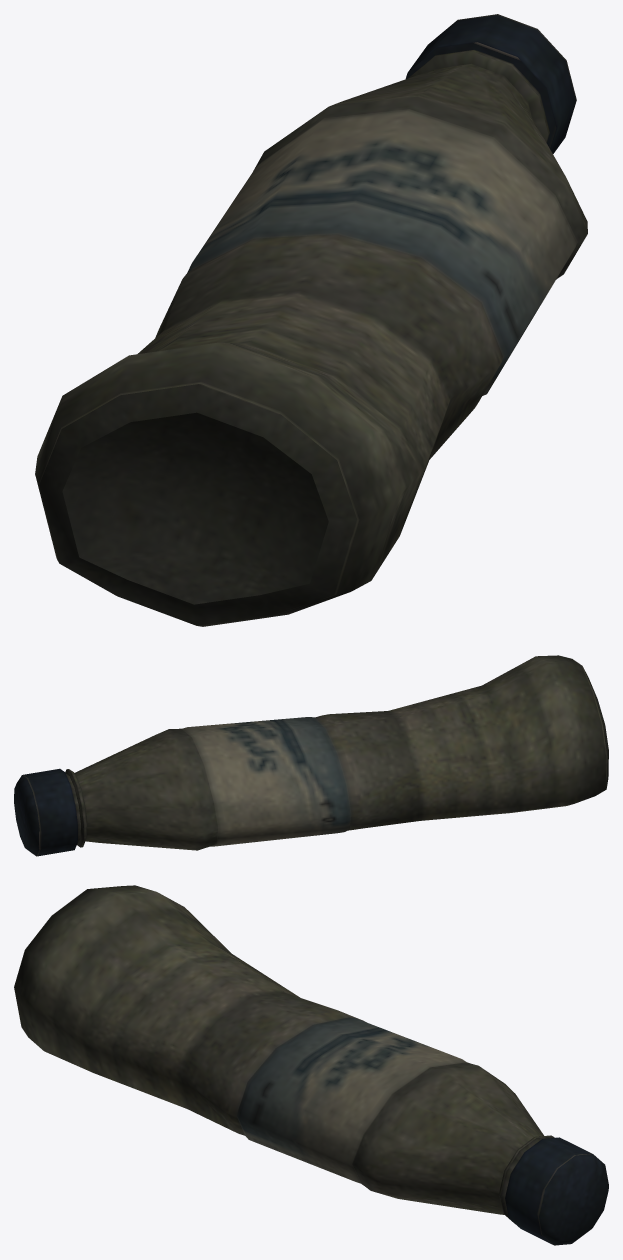
Rendered from plastic_bottle_mx_1_dirty_squashed.obj.
The picture shows the model from 3 angles, top to bottom: view 1: azimuth 30°, elevation 25°; view 2: azimuth 150°, elevation 25°; view 3: azimuth 270°, elevation 25°; orthographic projection. The views are drawn at different scales.
Visible parts, largest first — view 1: plastic_bottle_mx_1_dirty_squashed; view 2: plastic_bottle_mx_1_dirty_squashed; view 3: plastic_bottle_mx_1_dirty_squashed.
Boxes of the visible parts, x1,y1,x2,y2 form: plastic_bottle_mx_1_dirty_squashed: (35,14,587,626); plastic_bottle_mx_1_dirty_squashed: (14,655,608,856); plastic_bottle_mx_1_dirty_squashed: (14,885,608,1245).
Bounding box in the file's own units: 0.2684 × 0.0817 × 0.2684.
